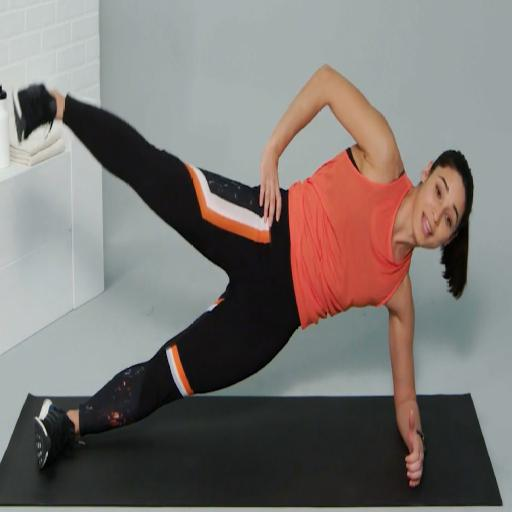Normal_Dips: (1, 27, 512, 508), (229, 32, 511, 452)
